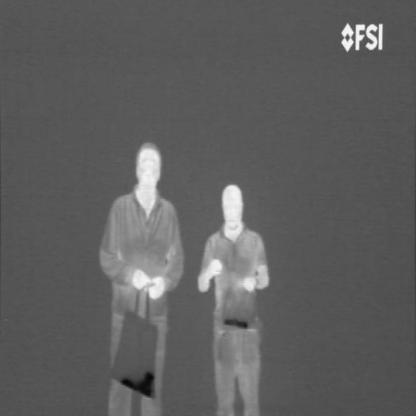weapon: (119, 367, 157, 402)
